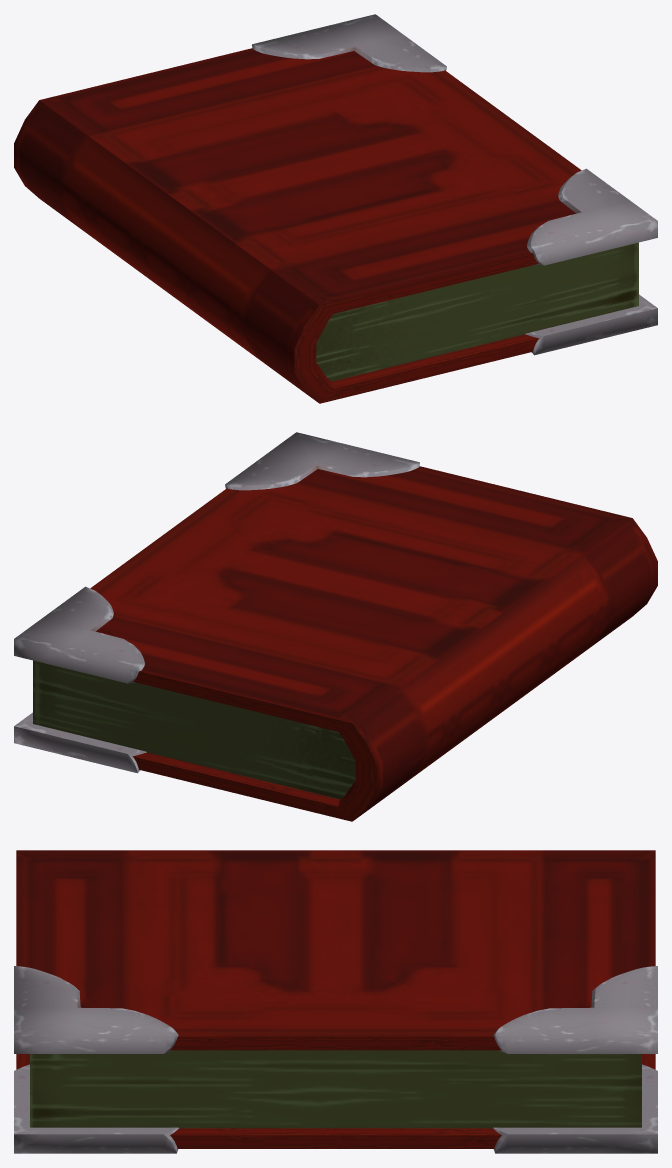
The model's file is prop_book_7.glb.
The picture shows the model from 3 angles, top to bottom: view 1: azimuth 30°, elevation 25°; view 2: azimuth 150°, elevation 25°; view 3: azimuth 270°, elevation 25°; orthographic projection. The views are drawn at different scales.
Parts seen in each view (by area): view 1: Cube133, Cube133_1; view 2: Cube133, Cube133_1; view 3: Cube133, Cube133_1.
Part boxes in pixels (left/top/right/bottom): Cube133: left=14, top=48, right=638, bottom=403; Cube133_1: left=252, top=14, right=657, bottom=355; Cube133: left=33, top=466, right=657, bottom=821; Cube133_1: left=14, top=432, right=419, bottom=773; Cube133: left=16, top=850, right=655, bottom=1148; Cube133_1: left=14, top=966, right=657, bottom=1153.
Size of the model in its own units: 0.247 by 0.0679 by 0.3333.
Materials: 2 (2 with a texture image).
